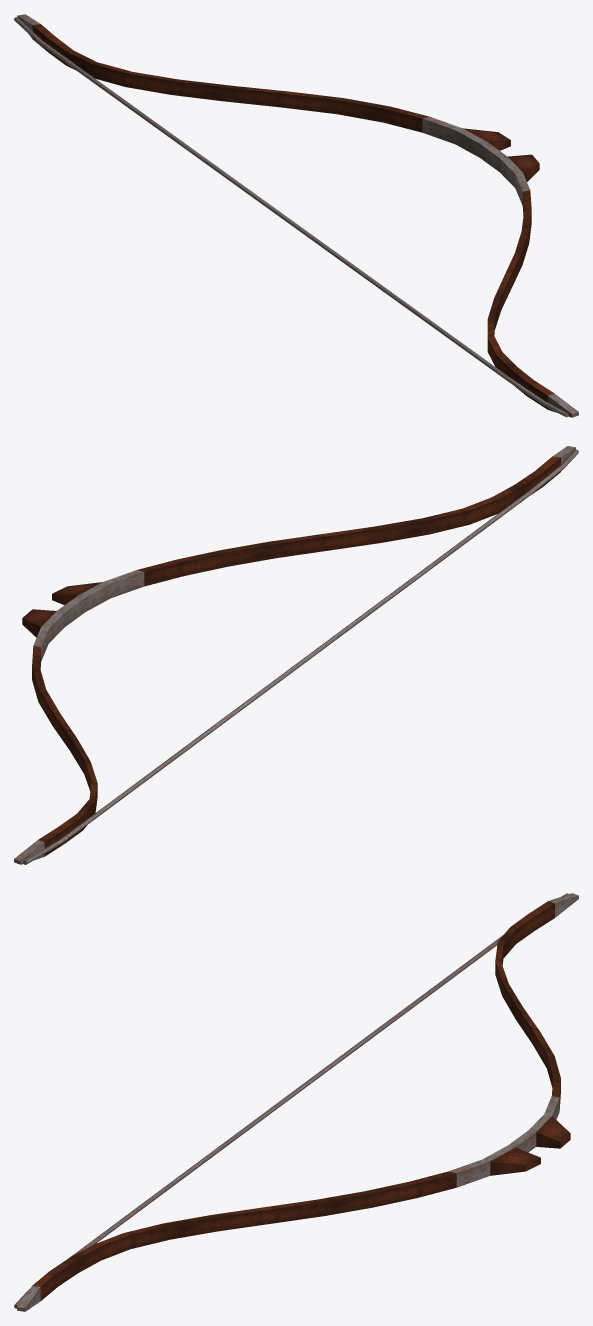
File: Arrow.FBX
The picture shows the model from 3 angles, top to bottom: view 1: azimuth 30°, elevation 25°; view 2: azimuth 150°, elevation 25°; view 3: azimuth 330°, elevation 25°; orthographic projection. The views are drawn at different scales.
Parts seen in each view (by area): view 1: Box001; view 2: Box001; view 3: Box001.
Part boxes in pixels (x1=…): Box001: x1=14, y1=14, x2=578, y2=417; Box001: x1=14, y1=446, x2=578, y2=864; Box001: x1=14, y1=893, x2=578, y2=1311.
Size of the model in its own units: 82.55 by 4.43 by 310.
2 materials, 2 textured.
